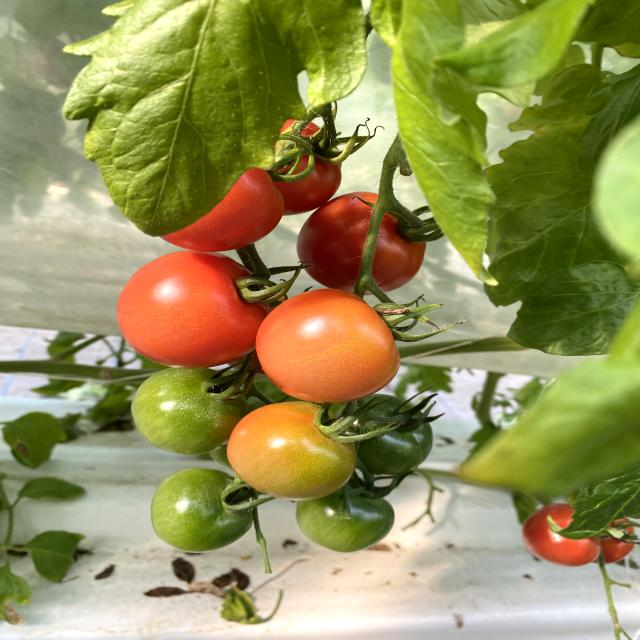ripe0: (151, 467, 254, 553), (131, 369, 234, 453), (299, 495, 396, 552)
ripe1: (227, 401, 358, 501)
ripe2: (116, 248, 255, 368), (255, 289, 402, 402), (298, 191, 427, 293), (522, 502, 599, 567)
